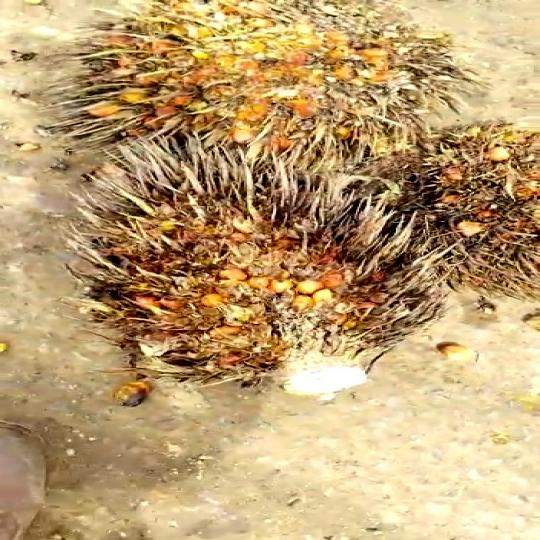terlalu masak: (58, 138, 447, 403), (78, 0, 456, 163)
